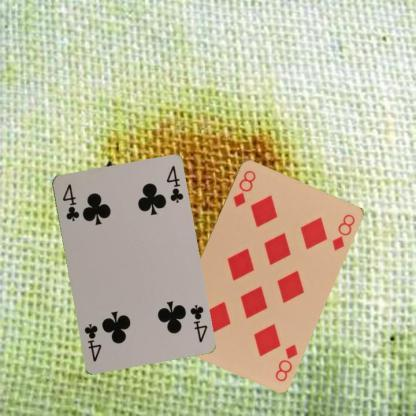4c: (186, 301, 208, 344), (60, 180, 80, 223)
8d: (230, 167, 257, 208), (272, 342, 299, 382)
